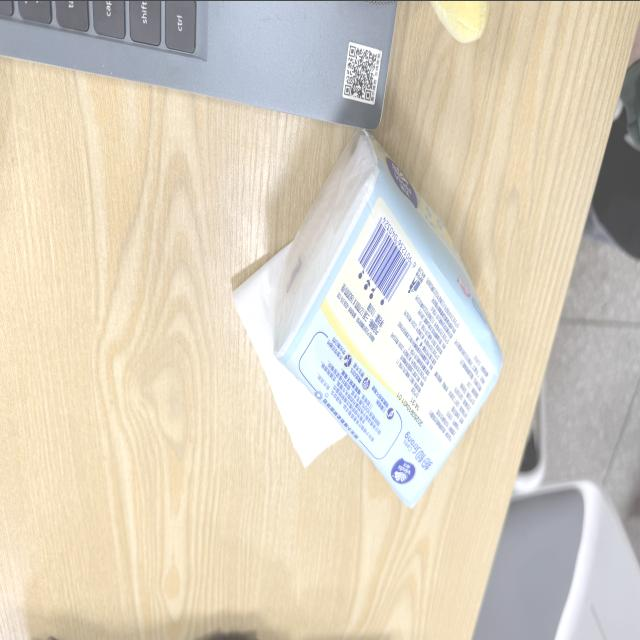tissue: (274, 130, 501, 504), (233, 244, 344, 465)
